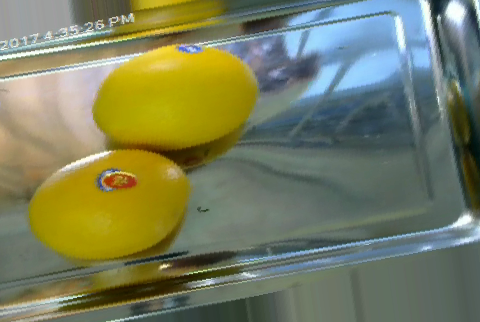Orange: (91, 41, 259, 150), (27, 147, 189, 260)
